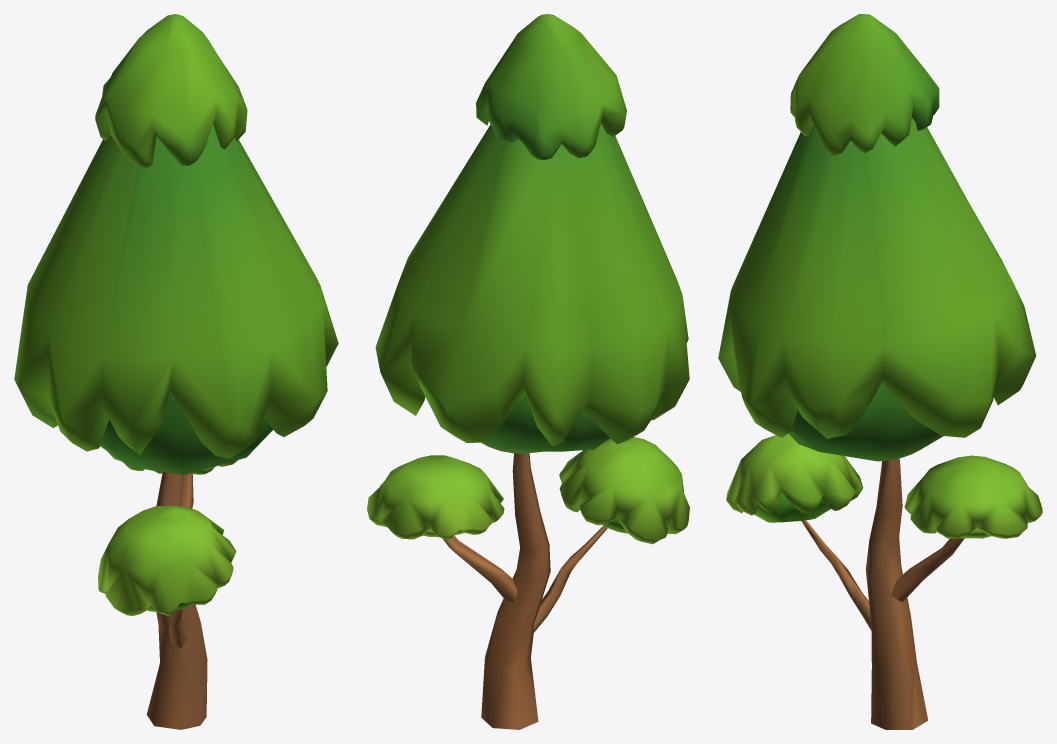
Rendered from SM_Tree_12_LOD_01.fbx.
3 views of the same model, side by side, from view 1: azimuth 30°, elevation 25°; view 2: azimuth 150°, elevation 25°; view 3: azimuth 270°, elevation 25° (orthographic). The views are drawn at different scales.
Visible parts, largest first — view 1: tree12_LOD_01; view 2: tree12_LOD_01; view 3: tree12_LOD_01.
Part boxes in pixels (x1,y1,x2,y2): tree12_LOD_01: [14, 14, 338, 729]; tree12_LOD_01: [367, 14, 689, 729]; tree12_LOD_01: [718, 14, 1042, 729].
Bounding box in the file's own units: 957 × 2380 × 1006.
1 material, 1 textured.
